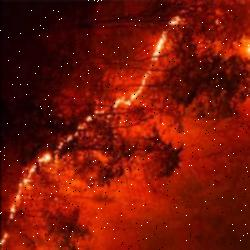fire: (140, 10, 190, 75), (18, 140, 69, 190), (90, 78, 146, 120)
